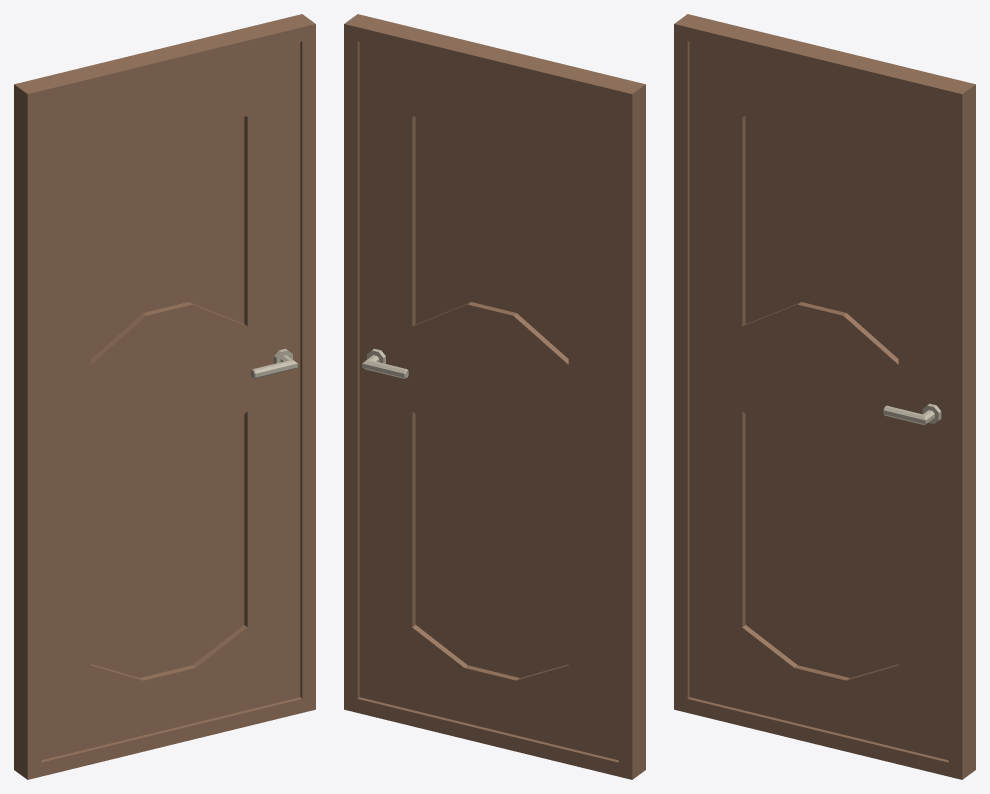
File: Mesh_Door_D05.fbx
3 views of the same model, side by side, from view 1: azimuth 30°, elevation 25°; view 2: azimuth 150°, elevation 25°; view 3: azimuth 330°, elevation 25° (orthographic).
Parts seen in each view (by area): view 1: Mesh_Door_D05; view 2: Mesh_Door_D05; view 3: Mesh_Door_D05.
Boxes of the visible parts, x1=… form: Mesh_Door_D05: x1=14, y1=14, x2=315, y2=779; Mesh_Door_D05: x1=344, y1=14, x2=645, y2=779; Mesh_Door_D05: x1=674, y1=14, x2=975, y2=779.
Size of the model in its own units: 0.9 by 2.05 by 0.1742.
